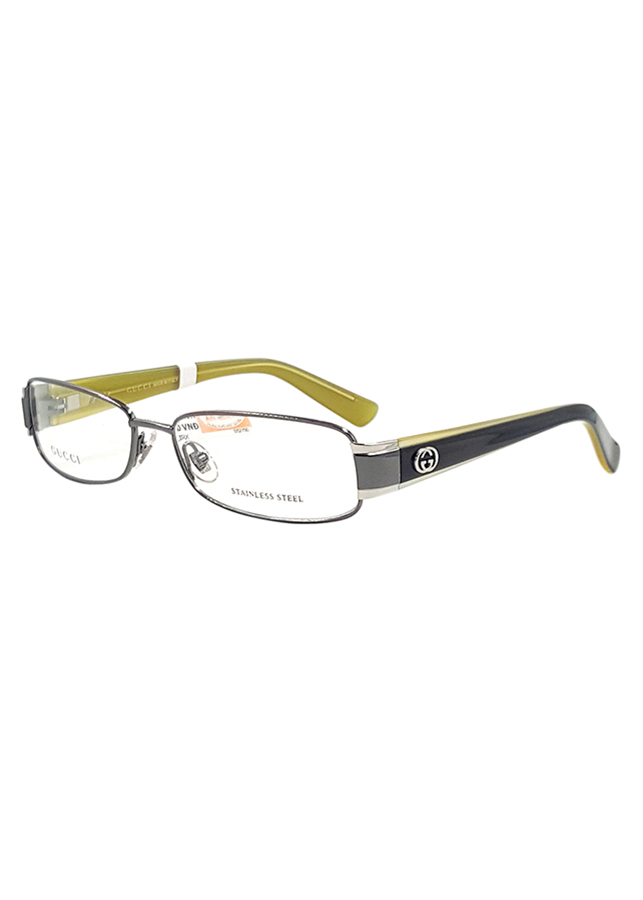Gucci: (403, 443, 445, 481), (45, 439, 89, 471), (120, 378, 159, 397)
